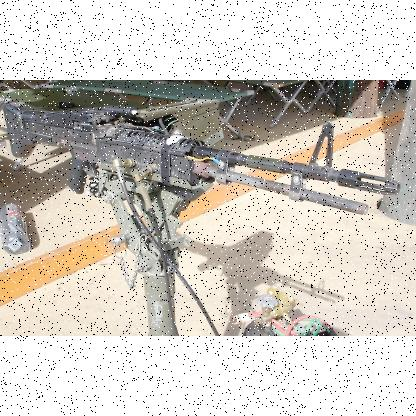gun: (5, 104, 369, 294)
